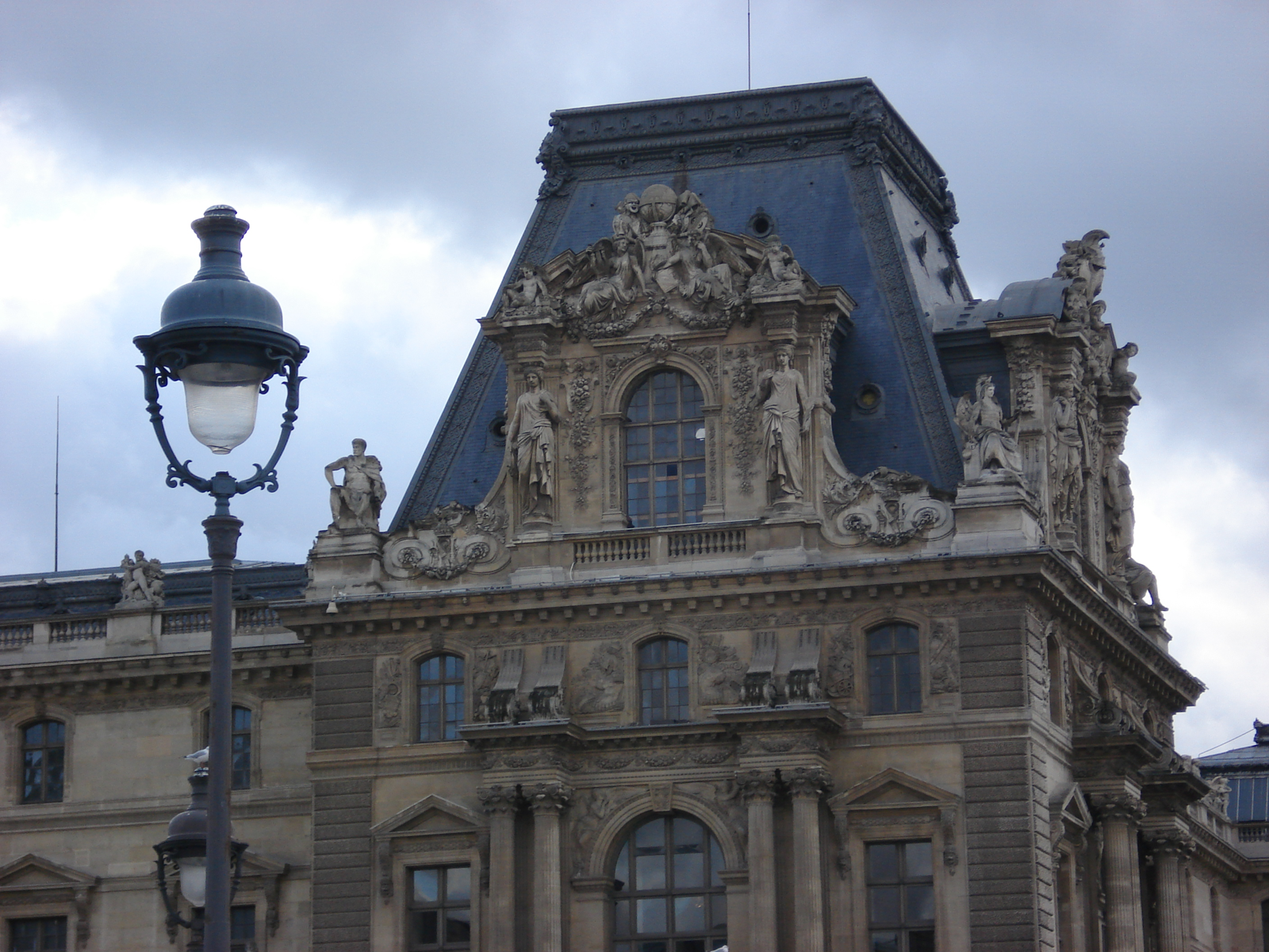fachada: (3, 69, 1269, 949)
poste: (116, 182, 330, 952)
